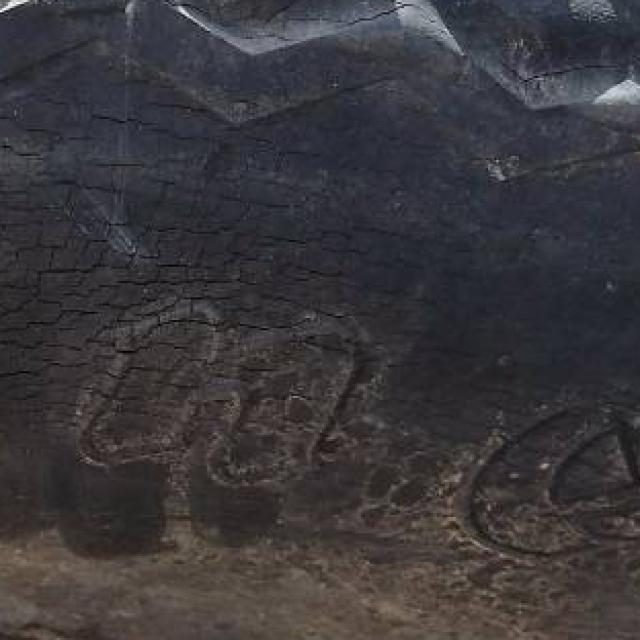Cracks: (0, 102, 640, 519), (170, 0, 479, 51)
